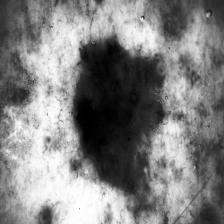Benign Marking or Mole: (72, 35, 170, 197)
